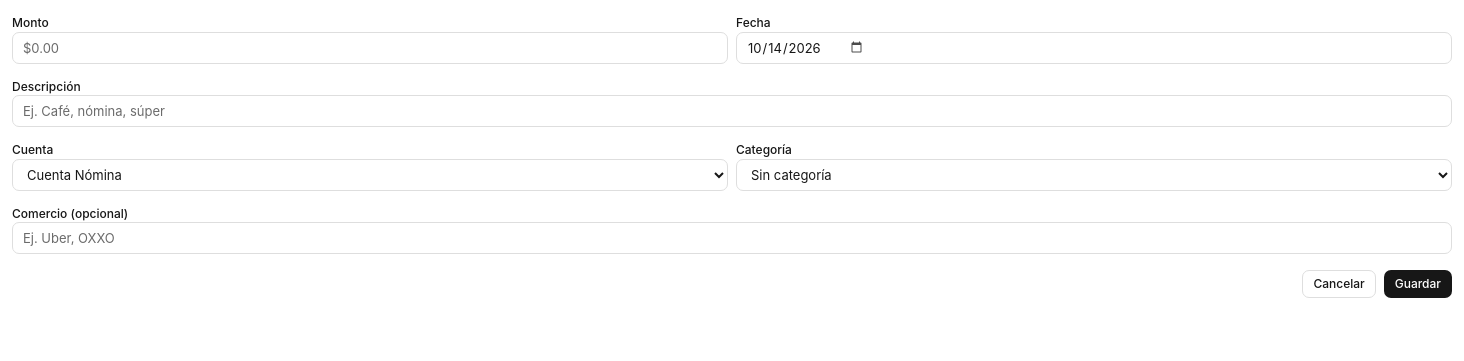
Test: TransactionForm › shows accessible validation errors and submits after correction
Type "not-money" into the field labelled "Monto". click: (370, 48)
box: [12, 32, 728, 64]
Clear the date field labelled "Fecha". click: (1094, 48)
box: [736, 32, 1452, 64]
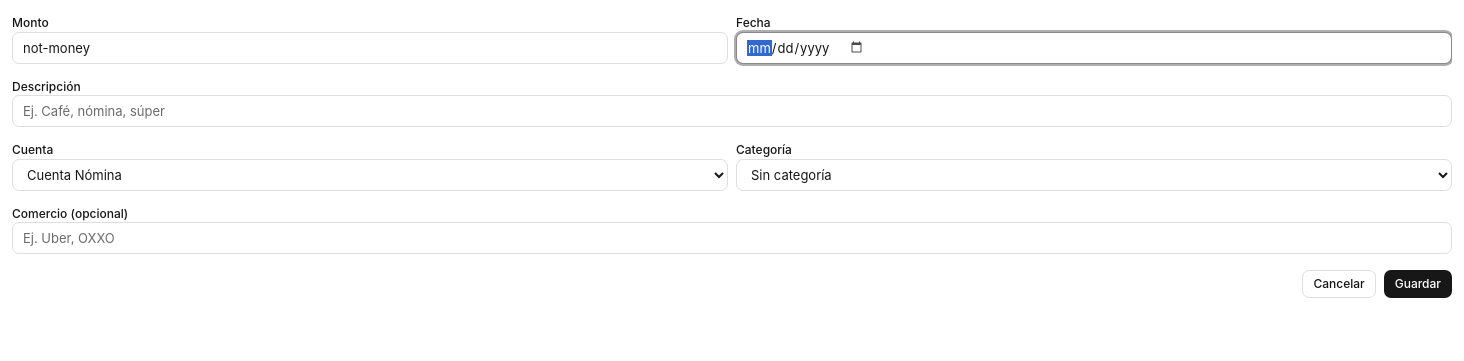
Click the button "Guardar". click: (1418, 284)
box: [1384, 270, 1452, 298]
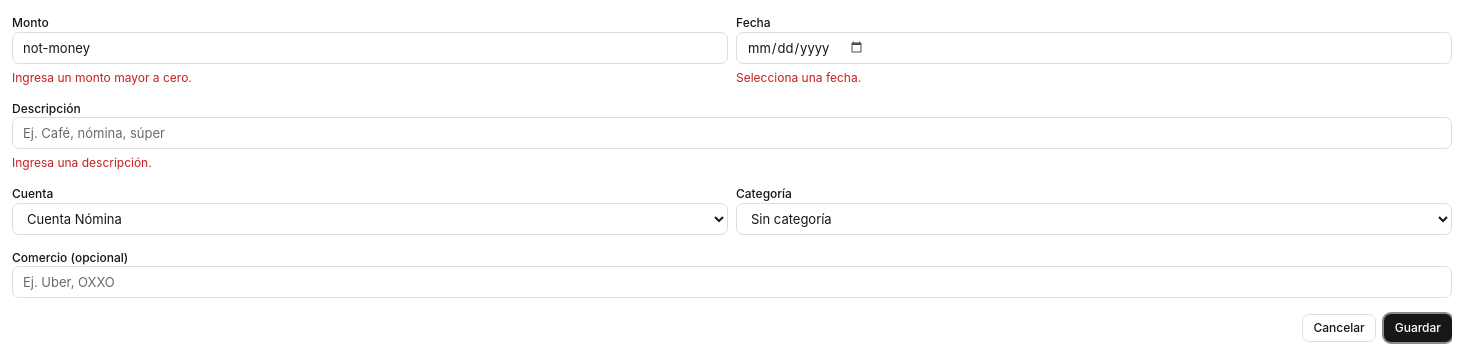
Replace the text in the field labelled "Monto" with "10.50". click: (370, 48)
box: [12, 32, 728, 64]
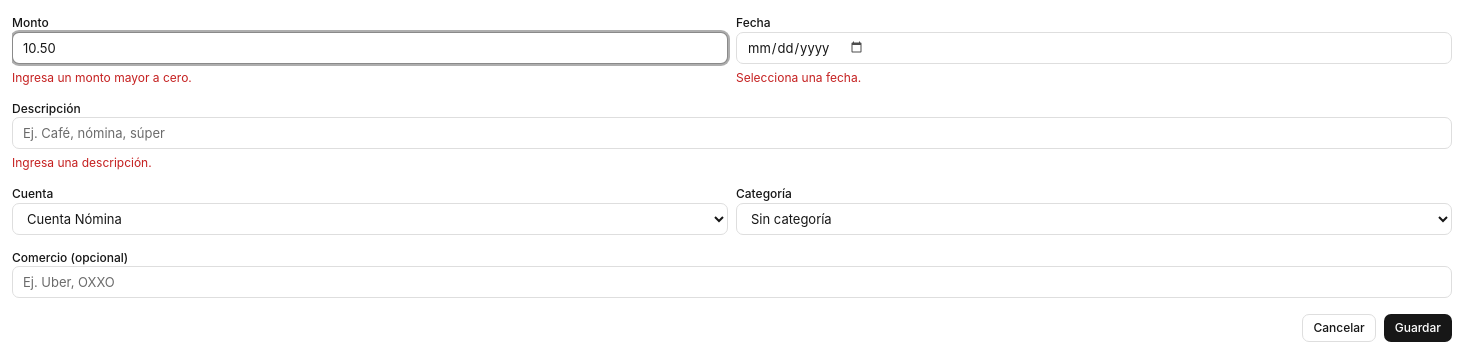
Type "2026-07-20" into the date field labelled "Fecha". click: (1094, 48)
box: [736, 32, 1452, 64]
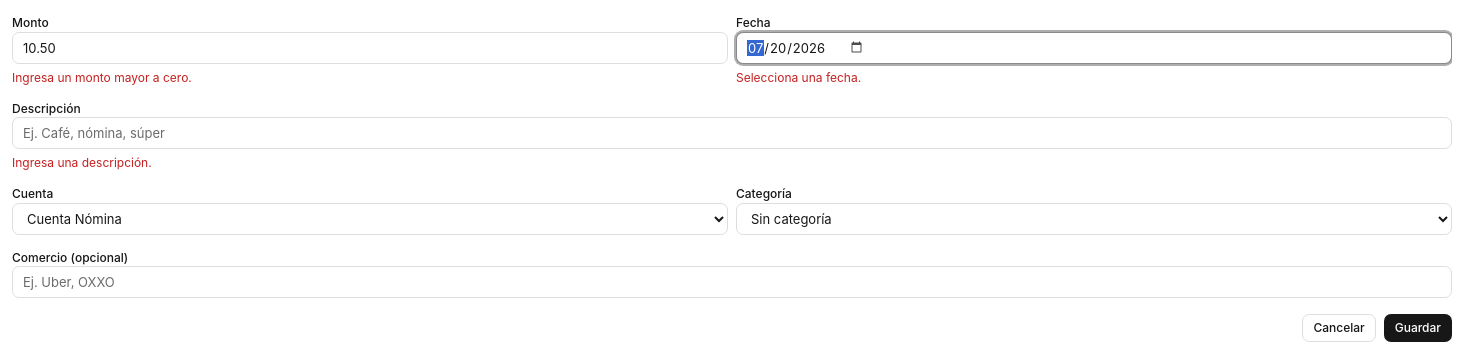
Type "Compra" into the field labelled "Descripción". click: (732, 133)
box: [12, 117, 1452, 149]
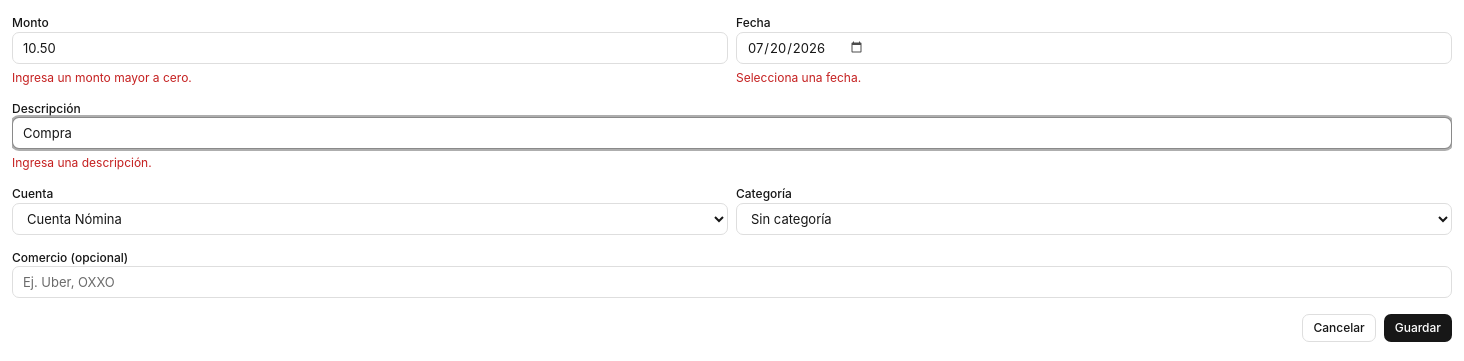
Click the button "Guardar". click: (1418, 328)
box: [1384, 314, 1452, 342]
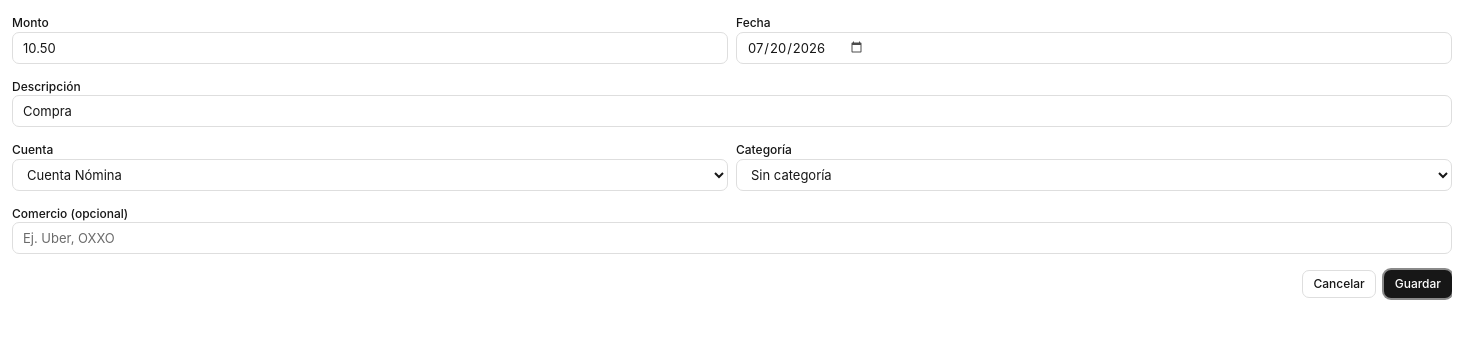
Result: the message "Ingresa un monto mayor a cero." is gone
